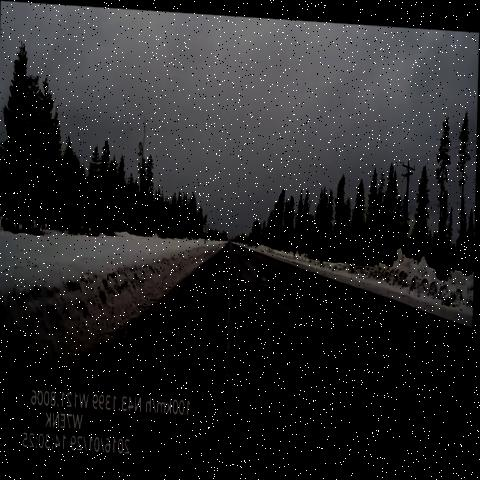pothole: (248, 259, 304, 309), (237, 247, 262, 264)
